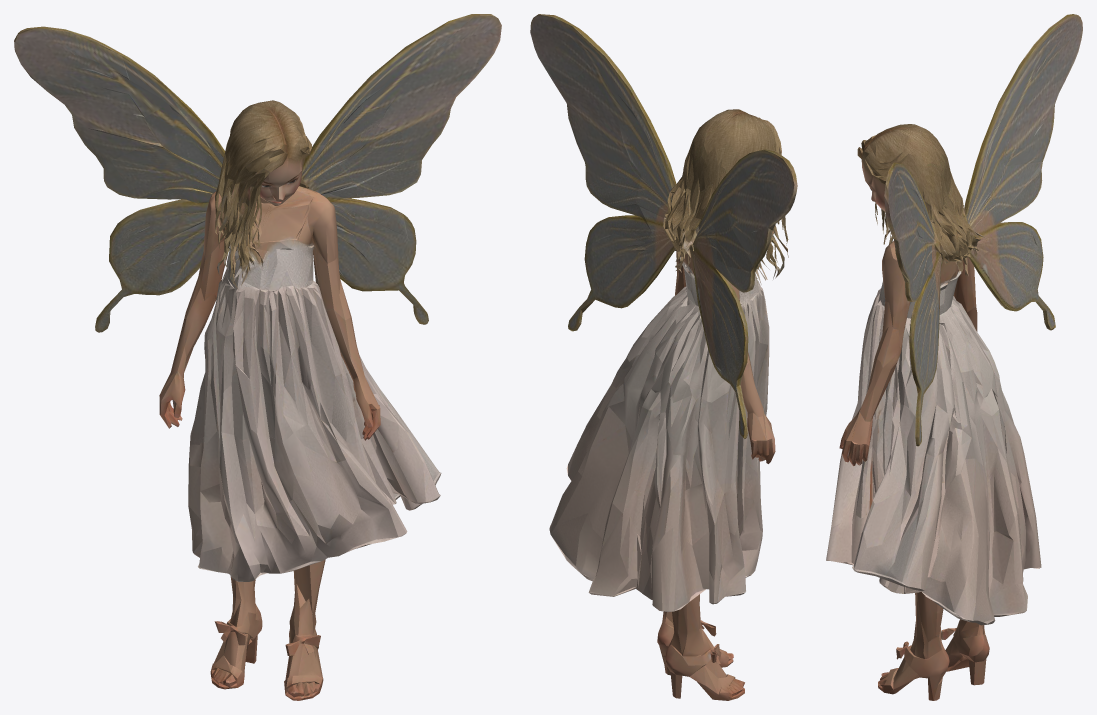
Rendered from fairy.glb.
3 renders of one model, left to right at view 1: azimuth 30°, elevation 25°; view 2: azimuth 150°, elevation 25°; view 3: azimuth 270°, elevation 25°, orthographic. The views are drawn at different scales.
Bounding box in the file's own units: 0.1884 × 0.3 × 0.1175.
1 material, 1 textured.
